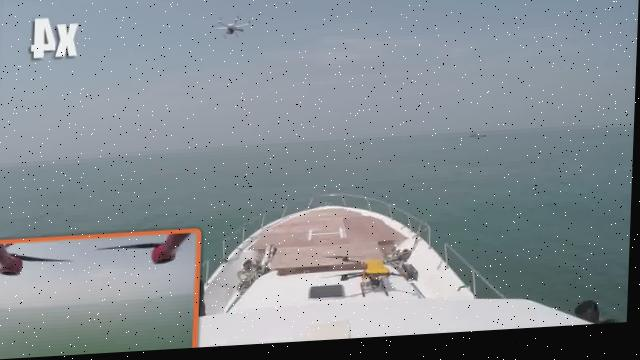drone: (319, 242, 430, 305), (204, 16, 262, 52)
